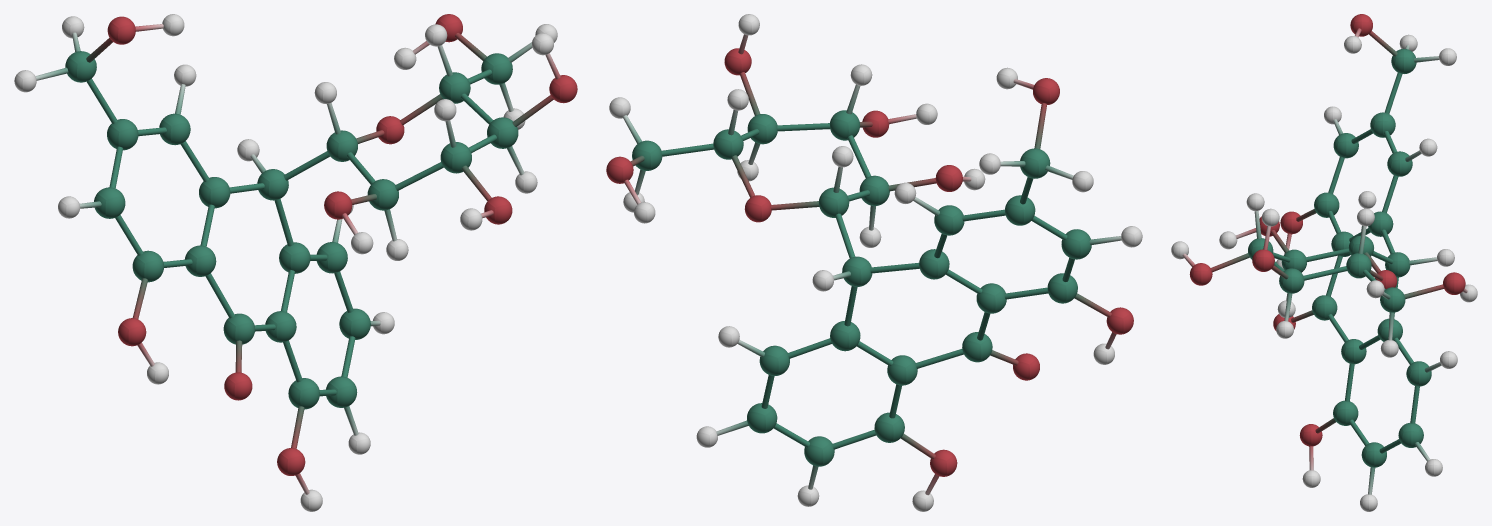
File: Aloins.fbx
The picture shows the model from 3 angles, left to right: view 1: azimuth 30°, elevation 25°; view 2: azimuth 150°, elevation 25°; view 3: azimuth 270°, elevation 25°; orthographic projection. The views are drawn at different scales.
Parts seen in each view (by area): view 1: curMeshHyperballExportedMesh; view 2: curMeshHyperballExportedMesh; view 3: curMeshHyperballExportedMesh.
Boxes of the visible parts, bbox=[...] form: curMeshHyperballExportedMesh: bbox=[14, 14, 577, 511]; curMeshHyperballExportedMesh: bbox=[606, 14, 1142, 511]; curMeshHyperballExportedMesh: bbox=[1171, 14, 1477, 511].
Bounding box in the file's own units: 10.82 × 10.06 × 6.82.
